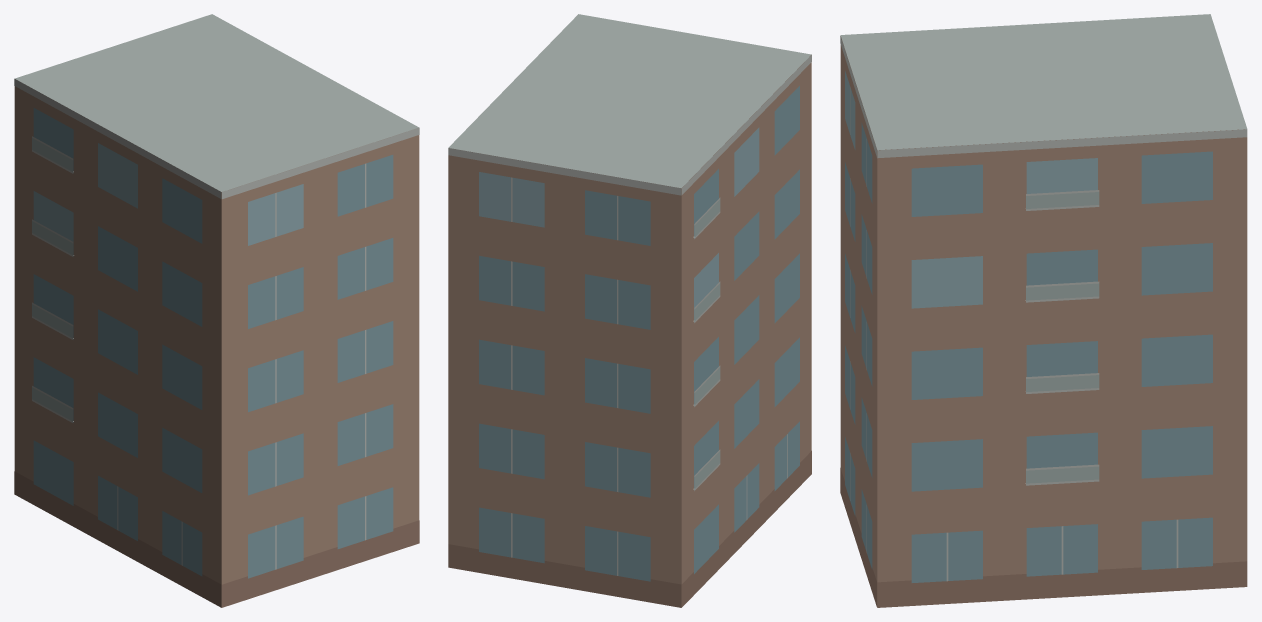
Rendered from survey-upis-32849155.glb.
3 views of the same model, side by side, from view 1: azimuth 30°, elevation 25°; view 2: azimuth 150°, elevation 25°; view 3: azimuth 270°, elevation 25° (orthographic). The views are drawn at different scales.
Visible parts, largest first — view 1: survey-upis-32849155.tmp; view 2: survey-upis-32849155.tmp; view 3: survey-upis-32849155.tmp.
Boxes of the visible parts, <box> form: survey-upis-32849155.tmp: <box>14,14,419,607</box>; survey-upis-32849155.tmp: <box>448,14,811,607</box>; survey-upis-32849155.tmp: <box>840,14,1247,607</box>.
Bounding box in the file's own units: 8.91 × 13.95 × 11.25.
